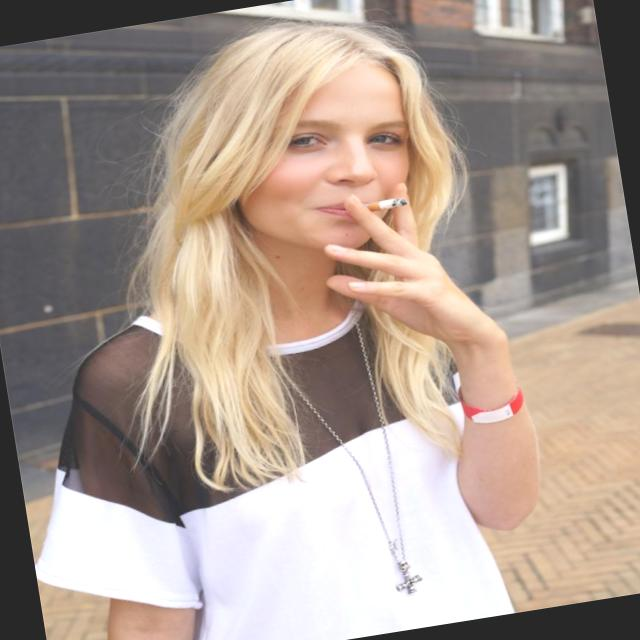cigarette: (328, 180, 421, 223)
